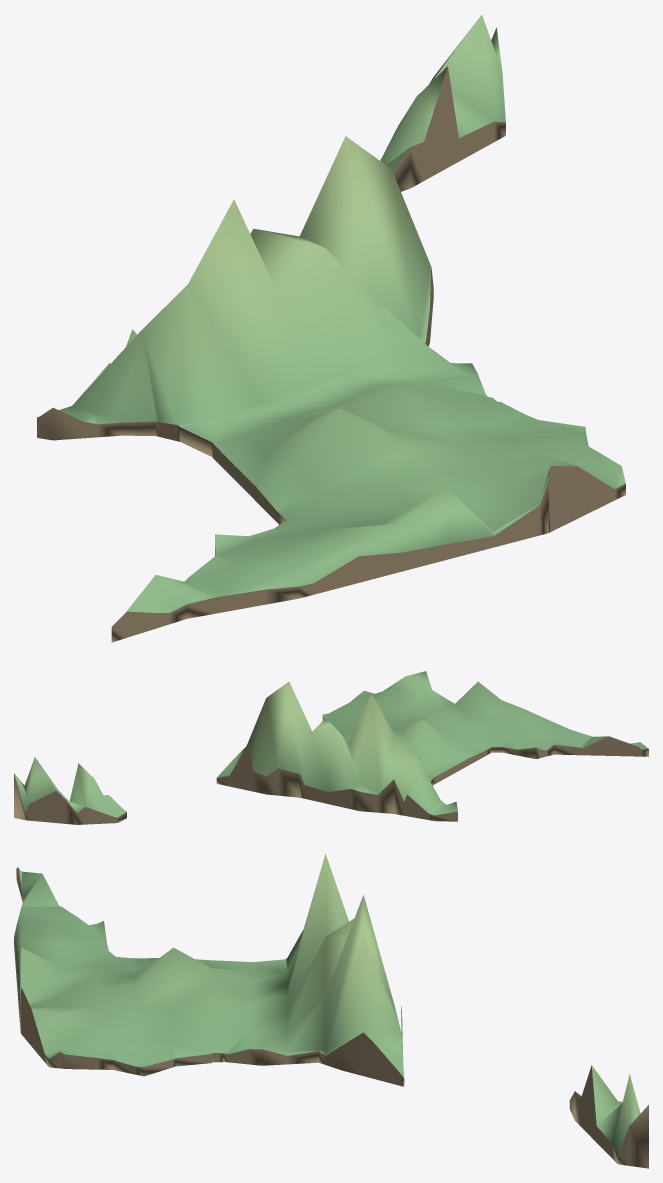
The model's file is TTO.glb.
3 views of the same model, one above another, from view 1: azimuth 30°, elevation 25°; view 2: azimuth 150°, elevation 25°; view 3: azimuth 270°, elevation 25° (orthographic). The views are drawn at different scales.
Visible parts, largest first — view 1: TTO; view 2: TTO; view 3: TTO.
Boxes of the visible parts, x1,y1,x2,y2 form: TTO: (37,15,625,642); TTO: (14,671,648,824); TTO: (14,854,648,1168).
Size of the model in its own units: 1.38 by 0.338 by 1.28.
